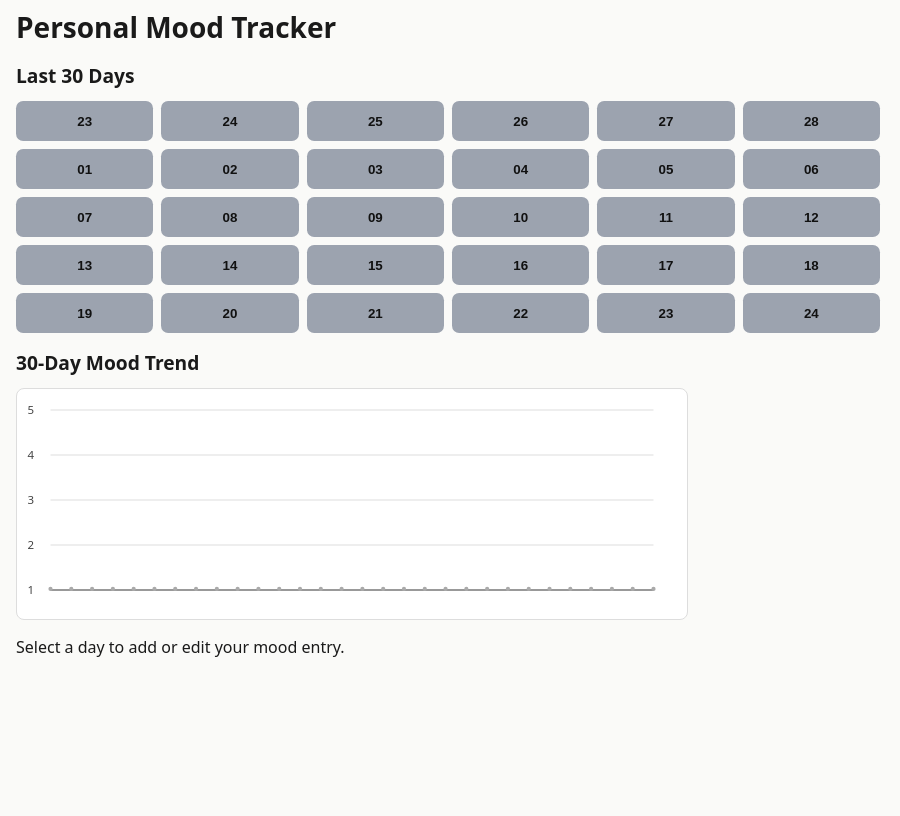
it: mood grid and day form › opens the mood entry form when a day is clicked
The width and height of the screenshot is (900, 816).
Click the 2nd button "24" at (811,313), box [743,293,880,333]
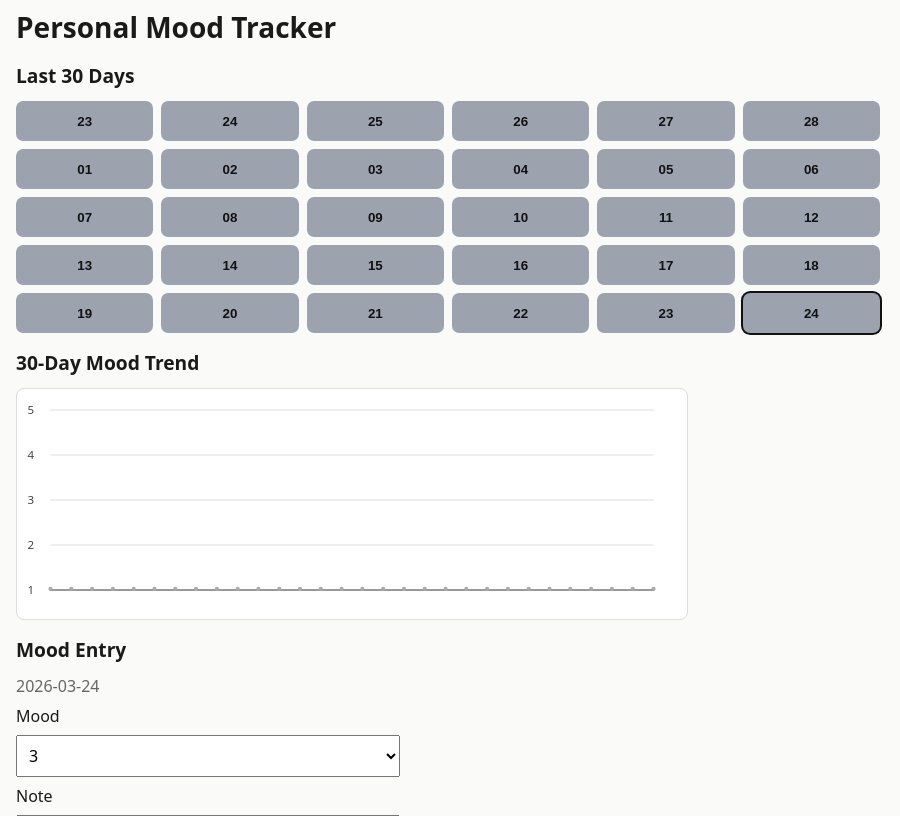
Check: the text "2026-03-24" is shown, box [16,675,100,697]
